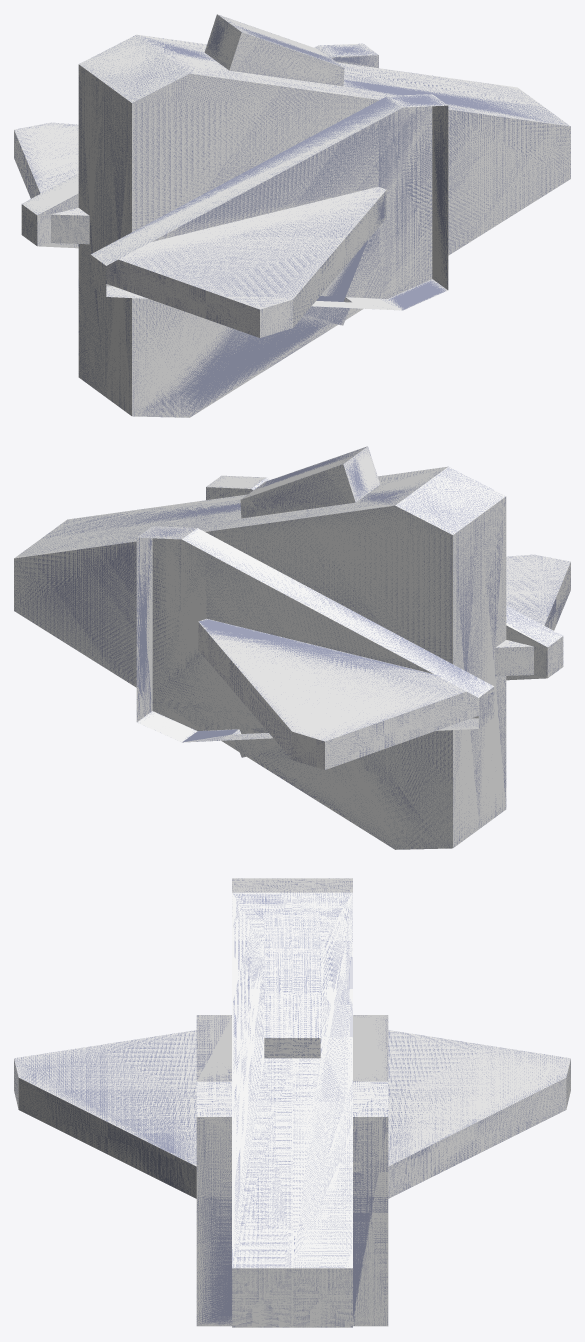
The model's file is SocialSciences.dae.
3 renders of one model, top to bottom at view 1: azimuth 30°, elevation 25°; view 2: azimuth 150°, elevation 25°; view 3: azimuth 270°, elevation 25°, orthographic. The views are drawn at different scales.
Parts seen in each view (by area): view 1: SketchUp; view 2: SketchUp; view 3: SketchUp.
Part boxes in pixels (x1,y1,x2,y2): SketchUp: [14, 14, 570, 417]; SketchUp: [14, 446, 570, 849]; SketchUp: [14, 878, 570, 1327].
Size of the model in its own units: 155 by 137 by 111.
